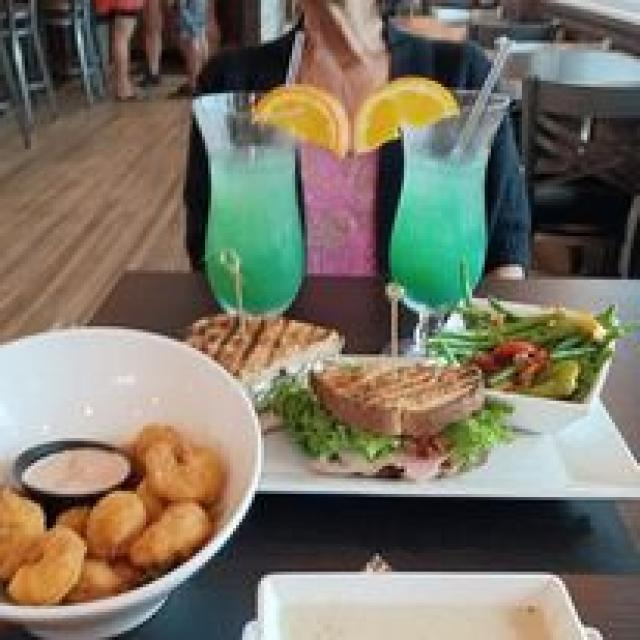Sandwich: (196, 292, 475, 451)
